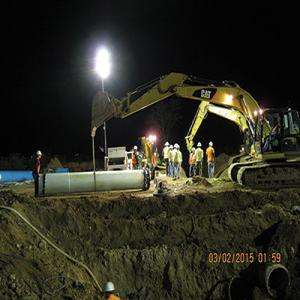white: (36, 150, 43, 161), (209, 141, 214, 149), (198, 143, 203, 150), (165, 142, 170, 149), (134, 145, 138, 153), (177, 145, 181, 152), (170, 145, 174, 151)
